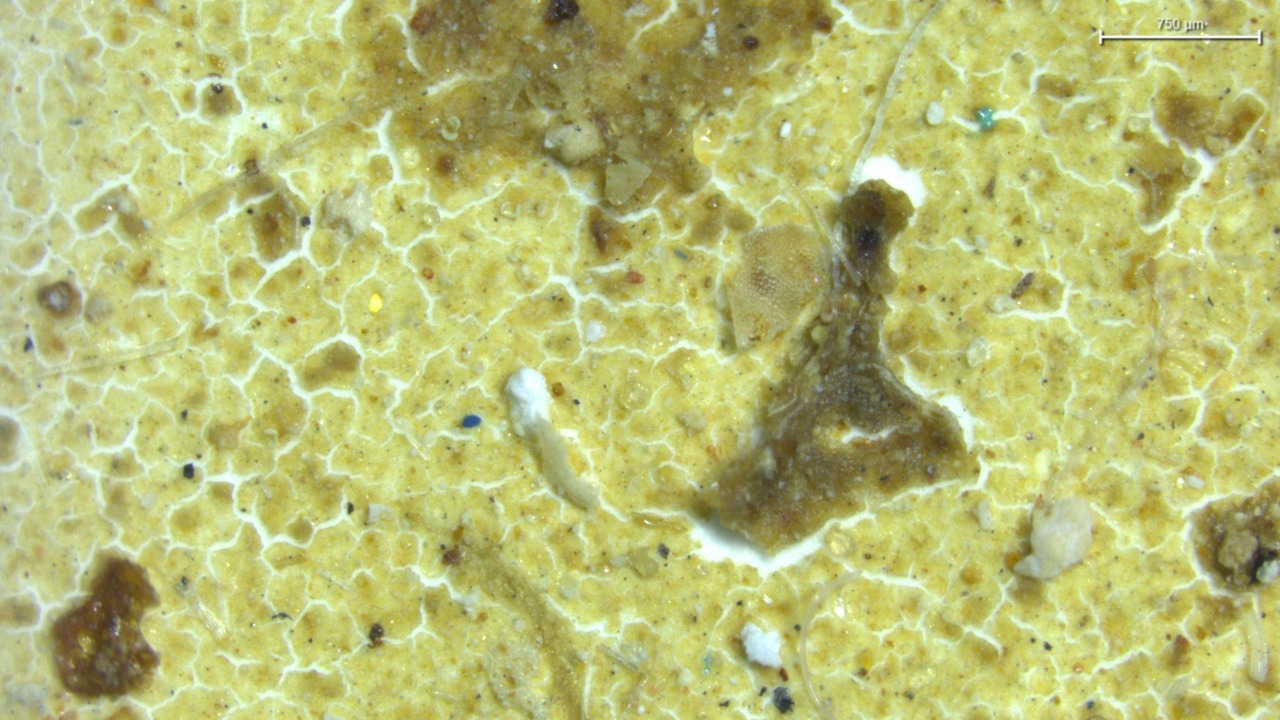microplastic_fragment: (1014, 498, 1093, 579), (505, 368, 551, 436), (740, 622, 783, 668)
